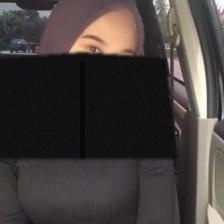Cadar_Niqab: (0, 0, 178, 158)
